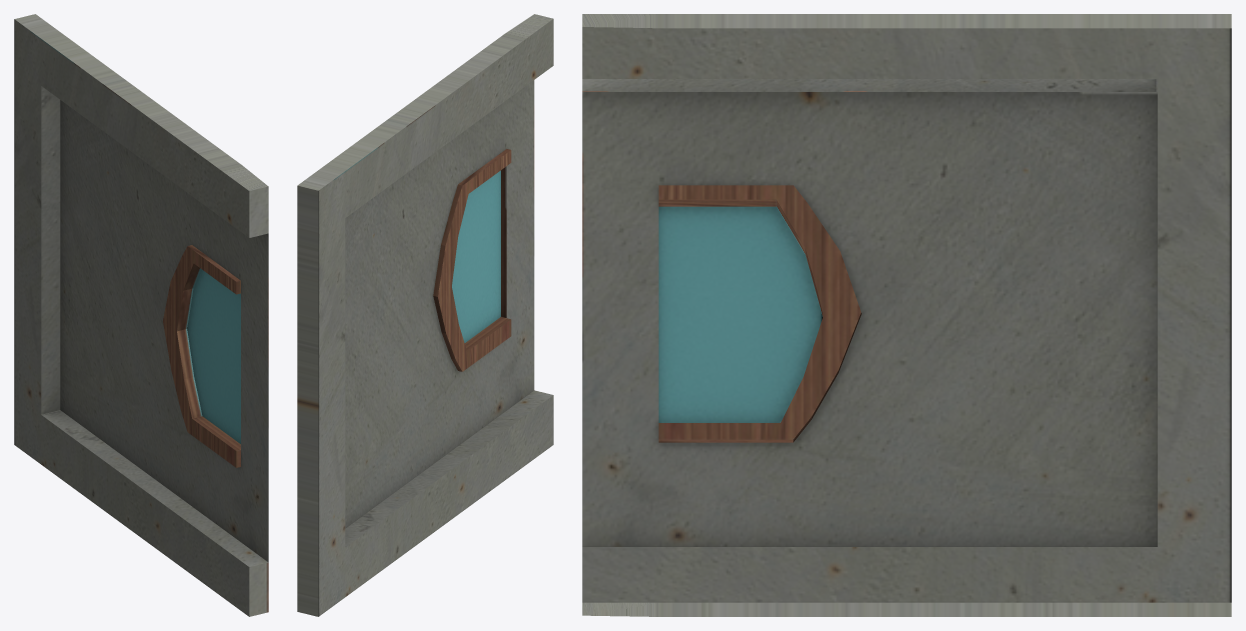
Rendered from WIndowTextured02.fbx.
3 views of the same model, side by side, from view 1: azimuth 30°, elevation 25°; view 2: azimuth 150°, elevation 25°; view 3: azimuth 270°, elevation 25° (orthographic). The views are drawn at different scales.
Visible parts, largest first — view 1: Plane.003; view 2: Plane.003; view 3: Plane.003.
Part boxes in pixels (left/top/right/bottom): Plane.003: left=14, top=14, right=268, bottom=616; Plane.003: left=297, top=14, right=553, bottom=616; Plane.003: left=582, top=14, right=1231, bottom=616.
Bounding box in the file's own units: 6.12 × 100 × 100.
